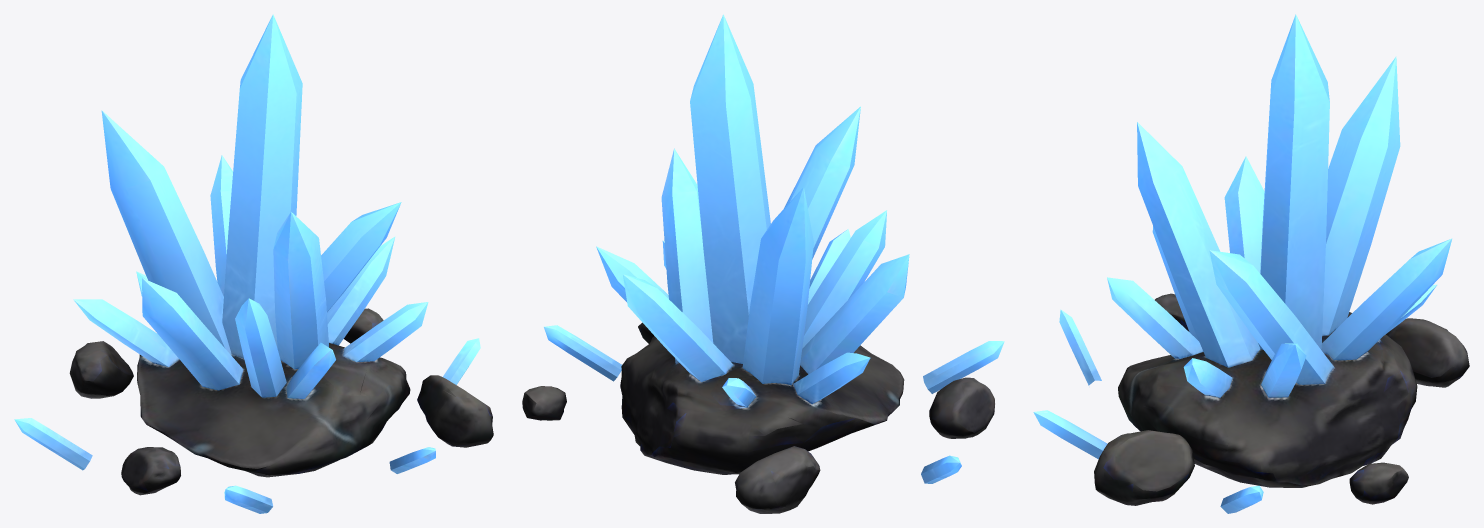
The model's file is cavern_crystals.glb.
The picture shows the model from 3 angles, left to right: view 1: azimuth 30°, elevation 25°; view 2: azimuth 150°, elevation 25°; view 3: azimuth 270°, elevation 25°; orthographic projection. The views are drawn at different scales.
Visible parts, largest first — view 1: cavern_crystals; view 2: cavern_crystals; view 3: cavern_crystals.
Boxes of the visible parts, box(x1,y1,x2,y2) form: cavern_crystals: box(14, 14, 493, 513); cavern_crystals: box(522, 14, 1004, 513); cavern_crystals: box(1033, 14, 1469, 513).
Bounding box in the file's own units: 1.73 × 1.62 × 1.43.
Materials: 1 (1 with a texture image).
